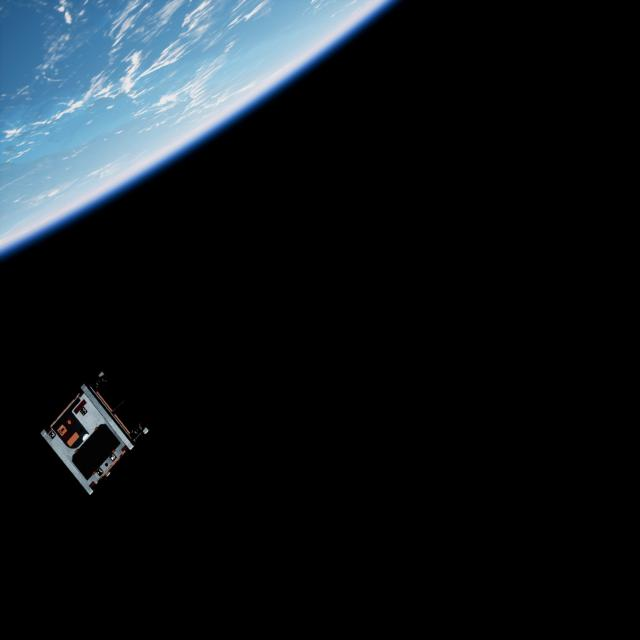satellite: (37, 362, 151, 500)
